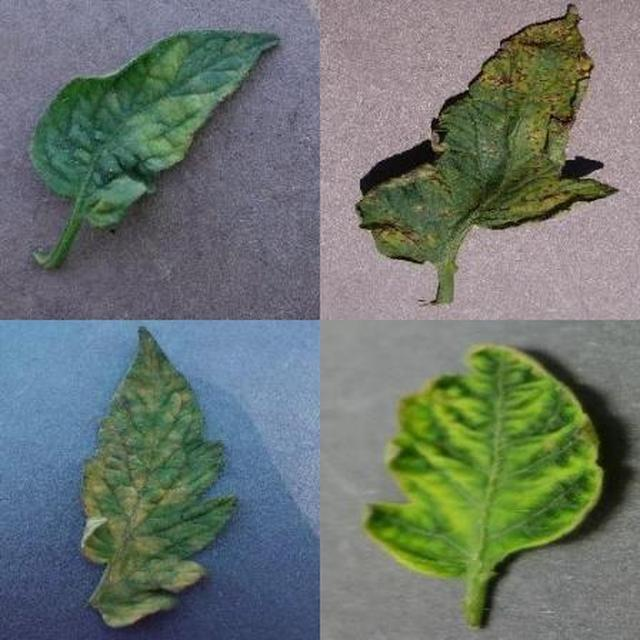Leaf Mold: (224, 185, 640, 640)
